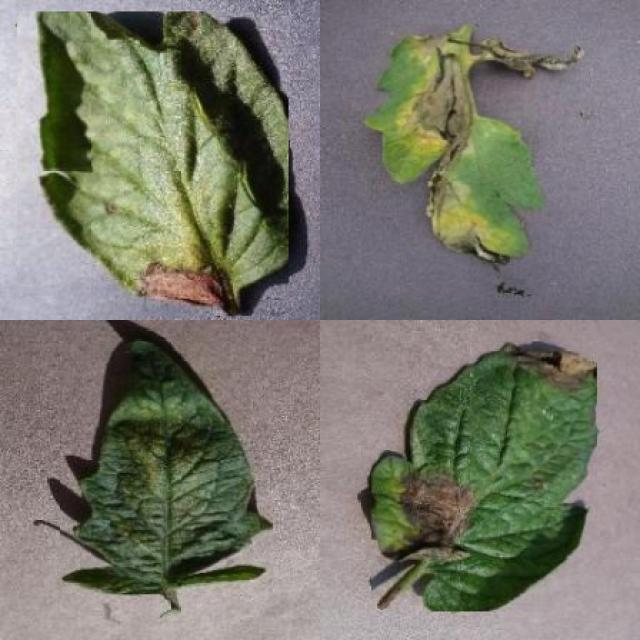Late Blight: (17, 11, 289, 316), (372, 342, 598, 612), (361, 25, 586, 295)
Spider Mites: (60, 338, 273, 595)
